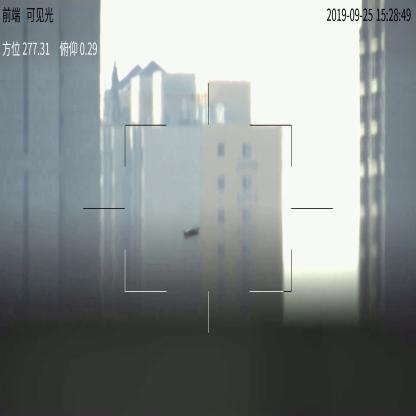uav: (180, 226, 198, 238)
